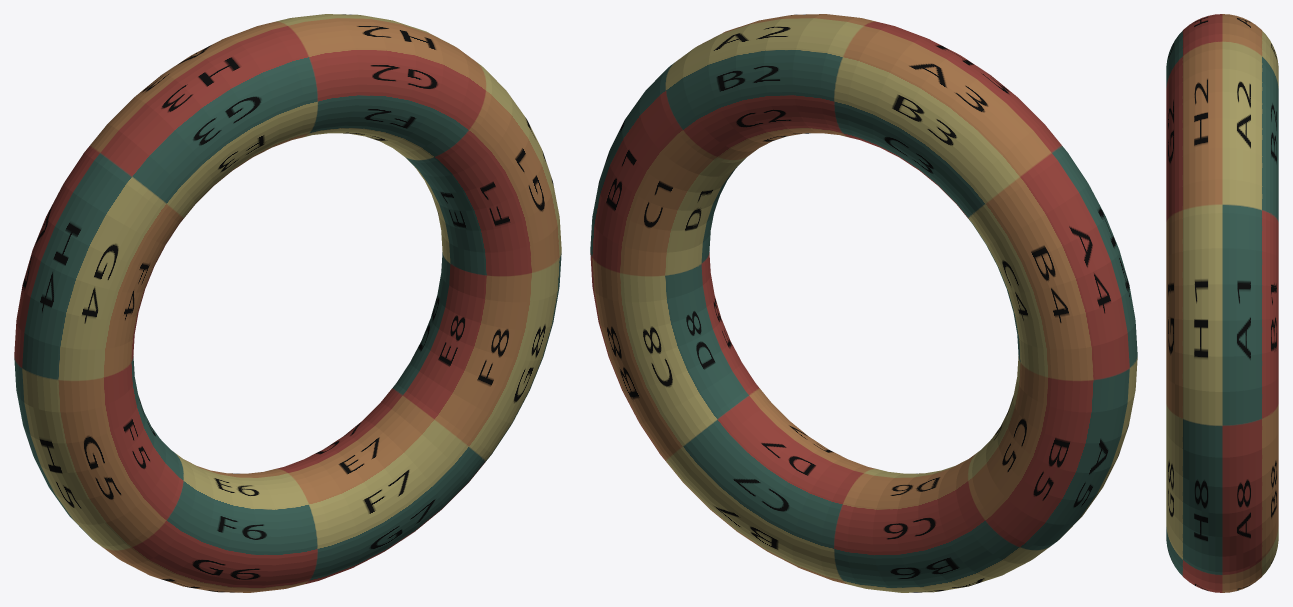
File: texture_torus_R19_r13.glb
3 views of the same model, side by side, from view 1: azimuth 30°, elevation 25°; view 2: azimuth 150°, elevation 25°; view 3: azimuth 270°, elevation 25° (orthographic). The views are drawn at different scales.
Visible parts, largest first — view 1: world; view 2: world; view 3: world.
Boxes of the visible parts, x1,y1,x2,y2 form: world: (14, 14, 561, 592); world: (590, 14, 1137, 592); world: (1166, 14, 1278, 592).
Size of the model in its own units: 28.13 by 28.08 by 5.46.
1 material, 1 textured.
